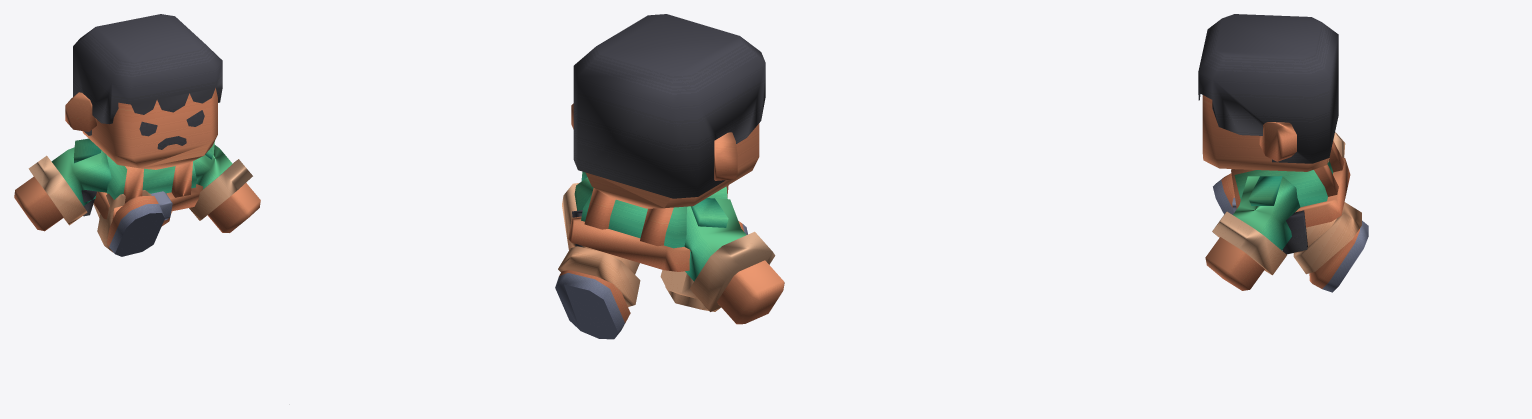
File: crowdA_sprint_5.glb
3 views of the same model, side by side, from view 1: azimuth 30°, elevation 25°; view 2: azimuth 150°, elevation 25°; view 3: azimuth 270°, elevation 25° (orthographic). The views are drawn at different scales.
Visible parts, largest first — view 1: crowdA-sprint-5; view 2: crowdA-sprint-5; view 3: crowdA-sprint-5.
Boxes of the visible parts, x1,y1,x2,y2 form: crowdA-sprint-5: [14, 14, 260, 256]; crowdA-sprint-5: [555, 14, 784, 339]; crowdA-sprint-5: [1198, 14, 1368, 292].
Bounding box in the file's own units: 1.2 × 0.7666 × 1.2.
Materials: 1 (1 with a texture image).
